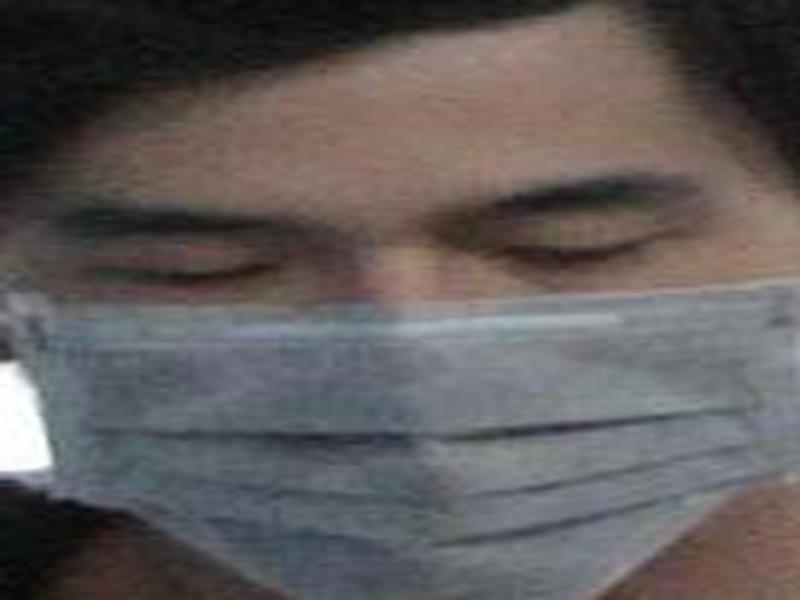with_mask: (8, 2, 800, 600)
